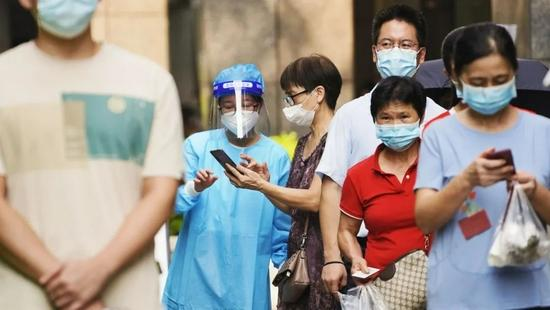mask: (459, 44, 518, 117), (373, 15, 424, 77), (374, 95, 423, 151)
